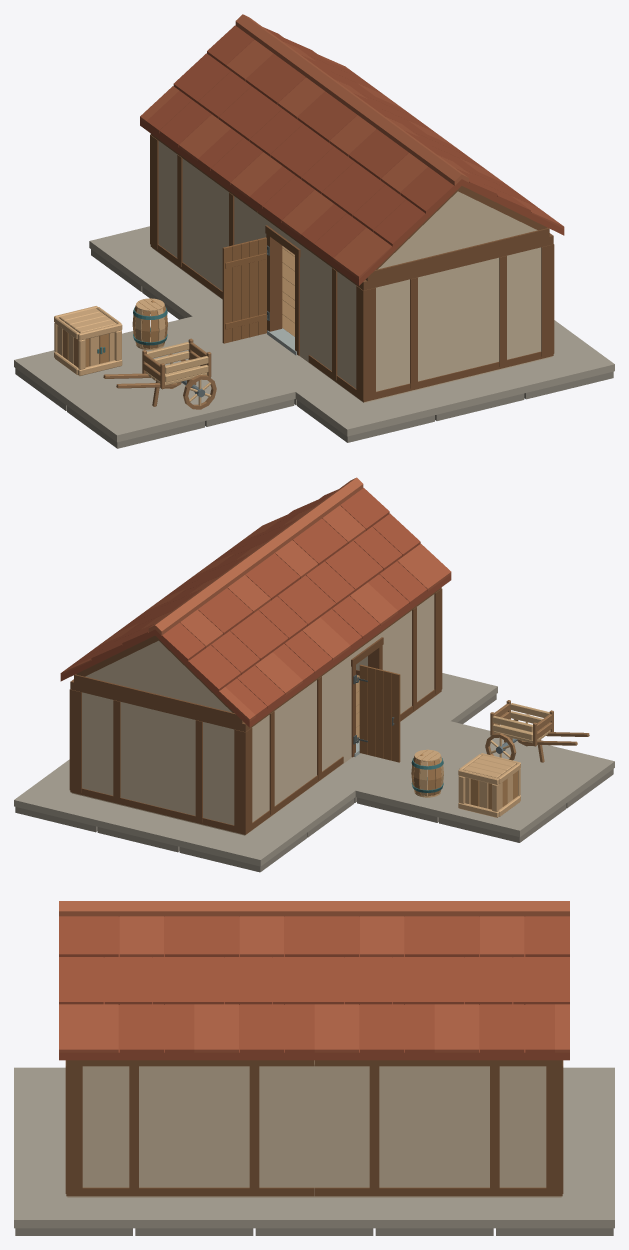
The picture shows the model from 3 angles, top to bottom: view 1: azimuth 30°, elevation 25°; view 2: azimuth 150°, elevation 25°; view 3: azimuth 270°, elevation 25°; orthographic projection. The views are drawn at different scales.
Visible parts, largest first — view 1: corner_0__village-l-corner-wall-2m-01, corner_1__village-l-corner-wall-2m-01, roof_1__village-clay-roof-section-2m-01, roof_7__village-clay-roof-section-2m-01, roof_5__village-clay-roof-section-2m-01, roof_3__village-clay-roof-section-2m-01, gable_0__village-gable-end-4m-01, corner_2__village-l-corner-wall-2m-01, apron_-6_2__village-stone-foundation-2m-01, base_-2_0__village-stone-foundation-2m-01, apron_-4_2__village-stone-foundation-2m-01, entry_door__DoorLeaf_Runtime (+14 smaller); view 2: corner_2__village-l-corner-wall-2m-01, corner_3__village-l-corner-wall-2m-01, roof_7__village-clay-roof-section-2m-01, roof_3__village-clay-roof-section-2m-01, roof_5__village-clay-roof-section-2m-01, roof_1__village-clay-roof-section-2m-01, gable_1__village-gable-end-4m-01, corner_0__village-l-corner-wall-2m-01, wall_-2_5__village-solid-wall-2m-01, base_-2_8__village-stone-foundation-2m-01, apron_-6_2__village-stone-foundation-2m-01, entry_door__DoorLeaf_Runtime (+14 smaller); view 3: roof_3__village-clay-roof-section-2m-01, roof_1__village-clay-roof-section-2m-01, roof_5__village-clay-roof-section-2m-01, roof_7__village-clay-roof-section-2m-01, corner_1__village-l-corner-wall-2m-01, corner_3__village-l-corner-wall-2m-01, wall_2_3__village-solid-wall-2m-01, wall_2_5__village-solid-wall-2m-01, base_2_0__village-stone-foundation-2m-01, base_2_8__village-stone-foundation-2m-01, base_2_4__village-stone-foundation-2m-01, base_2_2__village-stone-foundation-2m-01 (+7 smaller).
Part boxes in pixels (bbox=[...]): corner_0__village-l-corner-wall-2m-01: bbox=[308, 249, 458, 402]; corner_1__village-l-corner-wall-2m-01: bbox=[458, 233, 554, 379]; roof_1__village-clay-roof-section-2m-01: bbox=[301, 132, 556, 280]; roof_7__village-clay-roof-section-2m-01: bbox=[146, 19, 402, 167]; roof_5__village-clay-roof-section-2m-01: bbox=[198, 56, 453, 205]; roof_3__village-clay-roof-section-2m-01: bbox=[249, 94, 505, 242]; gable_0__village-gable-end-4m-01: bbox=[352, 170, 564, 285]; corner_2__village-l-corner-wall-2m-01: bbox=[150, 133, 206, 287]; apron_-6_2__village-stone-foundation-2m-01: bbox=[65, 378, 206, 448]; base_-2_0__village-stone-foundation-2m-01: bbox=[295, 382, 436, 442]; apron_-4_2__village-stone-foundation-2m-01: bbox=[173, 354, 295, 426]; entry_door__DoorLeaf_Runtime: bbox=[222, 237, 267, 343]; corner_2__village-l-corner-wall-2m-01: bbox=[158, 694, 295, 835]; corner_3__village-l-corner-wall-2m-01: bbox=[69, 679, 158, 814]; roof_7__village-clay-roof-section-2m-01: bbox=[67, 586, 302, 722]; roof_3__village-clay-roof-section-2m-01: bbox=[162, 516, 397, 653]; roof_5__village-clay-roof-section-2m-01: bbox=[115, 551, 350, 688]; roof_1__village-clay-roof-section-2m-01: bbox=[210, 482, 445, 618]; gable_1__village-gable-end-4m-01: bbox=[60, 621, 255, 727]; corner_0__village-l-corner-wall-2m-01: bbox=[356, 587, 442, 721]; wall_-2_5__village-solid-wall-2m-01: bbox=[295, 659, 343, 798]; base_-2_8__village-stone-foundation-2m-01: bbox=[178, 816, 307, 872]; apron_-6_2__village-stone-foundation-2m-01: bbox=[508, 745, 614, 808]; entry_door__DoorLeaf_Runtime: bbox=[357, 664, 400, 762]; roof_3__village-clay-roof-section-2m-01: bbox=[194, 901, 314, 1060]; roof_1__village-clay-roof-section-2m-01: bbox=[74, 901, 194, 1060]; roof_5__village-clay-roof-section-2m-01: bbox=[314, 901, 434, 1060]; roof_7__village-clay-roof-section-2m-01: bbox=[434, 901, 554, 1060]; corner_1__village-l-corner-wall-2m-01: bbox=[65, 1060, 194, 1197]; corner_3__village-l-corner-wall-2m-01: bbox=[434, 1060, 563, 1197]; wall_2_3__village-solid-wall-2m-01: bbox=[194, 1060, 314, 1197]; wall_2_5__village-solid-wall-2m-01: bbox=[314, 1060, 434, 1197]; base_2_0__village-stone-foundation-2m-01: bbox=[14, 1169, 134, 1235]; base_2_8__village-stone-foundation-2m-01: bbox=[494, 1169, 614, 1235]; base_2_4__village-stone-foundation-2m-01: bbox=[254, 1197, 374, 1235]; base_2_2__village-stone-foundation-2m-01: bbox=[134, 1197, 254, 1235].
Size of the model in its own units: 10 by 4.76 by 10.
